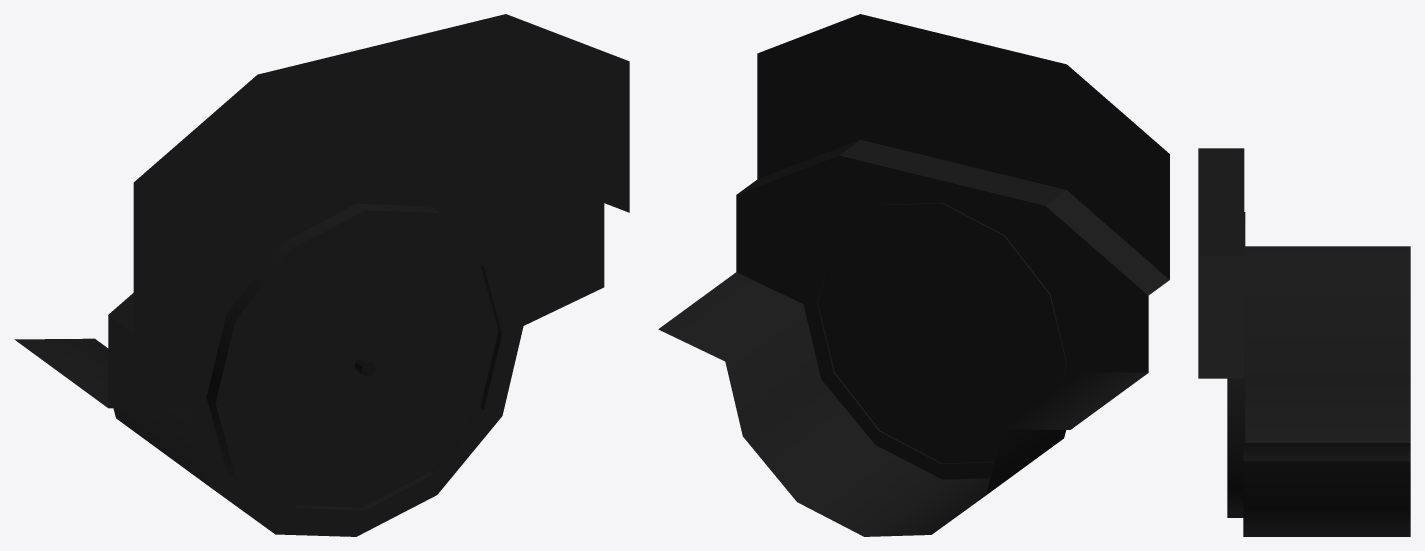
File: Itr_Obj_Grandfatherclock1_Body_03.FBX
The picture shows the model from 3 angles, left to right: view 1: azimuth 30°, elevation 25°; view 2: azimuth 150°, elevation 25°; view 3: azimuth 270°, elevation 25°; orthographic projection. The views are drawn at different scales.
Parts seen in each view (by area): view 1: Itr_Obj_Grandfatherclock1_Body_03; view 2: Itr_Obj_Grandfatherclock1_Body_03; view 3: Itr_Obj_Grandfatherclock1_Body_03.
Part boxes in pixels (bbox=[...]): Itr_Obj_Grandfatherclock1_Body_03: bbox=[14, 14, 629, 536]; Itr_Obj_Grandfatherclock1_Body_03: bbox=[658, 14, 1169, 536]; Itr_Obj_Grandfatherclock1_Body_03: bbox=[1198, 148, 1410, 536].
Bounding box in the file's own units: 14.49 × 14.27 × 6.05.
